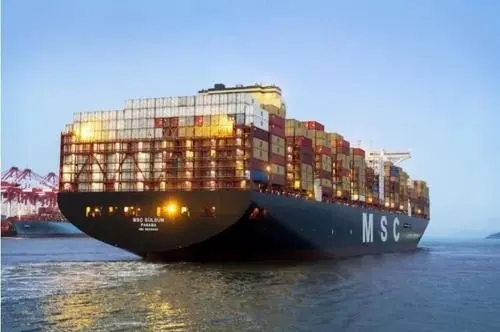Cargoship: (50, 83, 435, 260)
